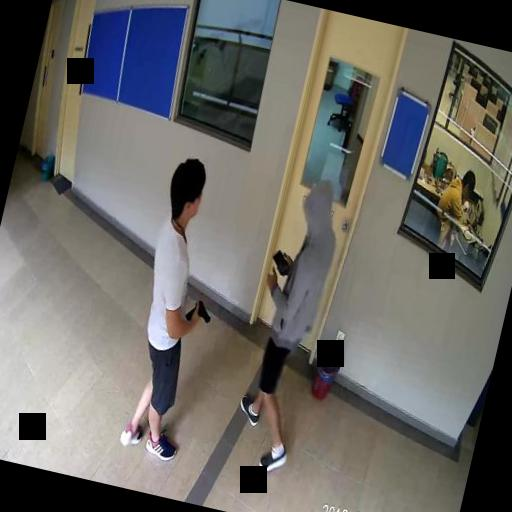Handgun: (184, 296, 214, 325)
